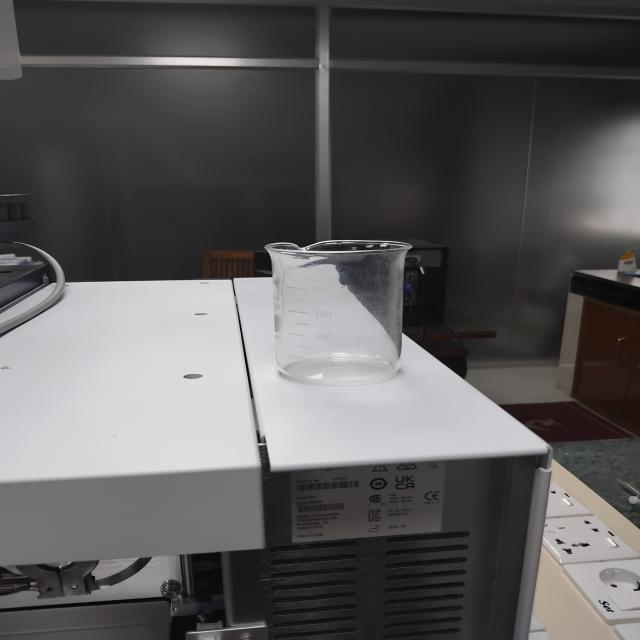Beaker: (234, 195, 440, 408)
